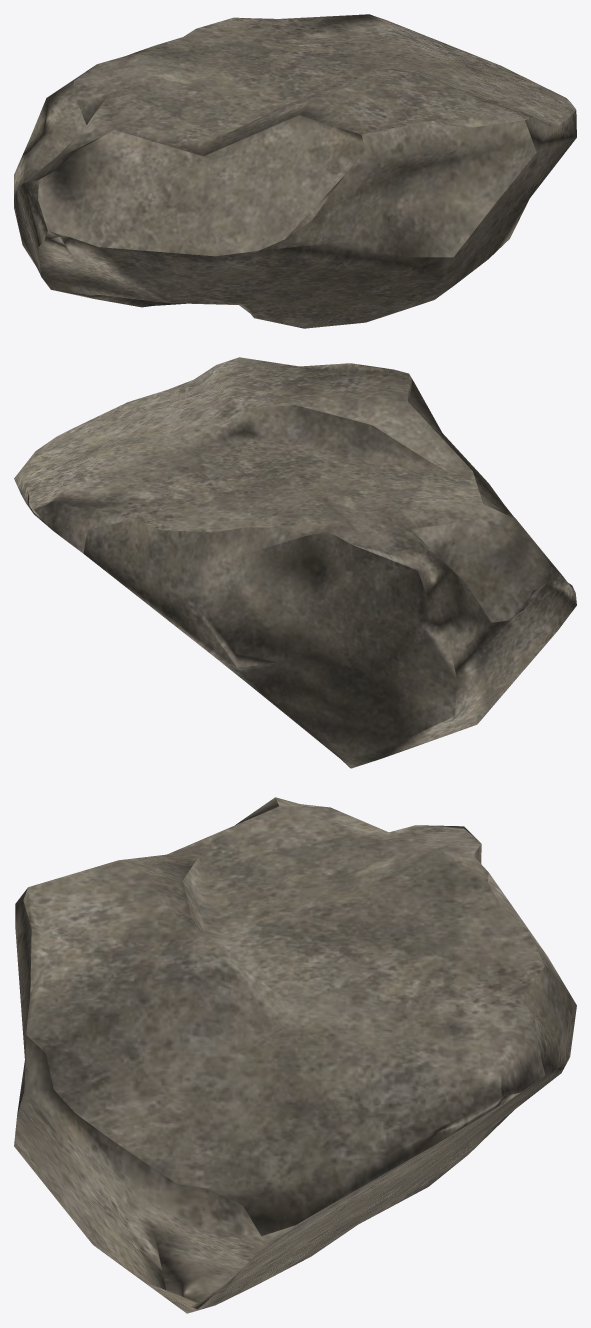
Rendered from rock_small_1.glb.
3 views of the same model, one above another, from view 1: azimuth 30°, elevation 25°; view 2: azimuth 150°, elevation 25°; view 3: azimuth 270°, elevation 25° (orthographic). The views are drawn at different scales.
Parts seen in each view (by area): view 1: SM_Small_Rock_1_LOD3; view 2: SM_Small_Rock_1_LOD3; view 3: SM_Small_Rock_1_LOD3.
Boxes of the visible parts, x1=… form: SM_Small_Rock_1_LOD3: x1=14, y1=14, x2=576, y2=328; SM_Small_Rock_1_LOD3: x1=14, y1=357, x2=576, y2=768; SM_Small_Rock_1_LOD3: x1=14, y1=797, x2=576, y2=1313.
Size of the model in its own units: 1.6 by 0.7827 by 1.05.
1 material, 1 textured.
